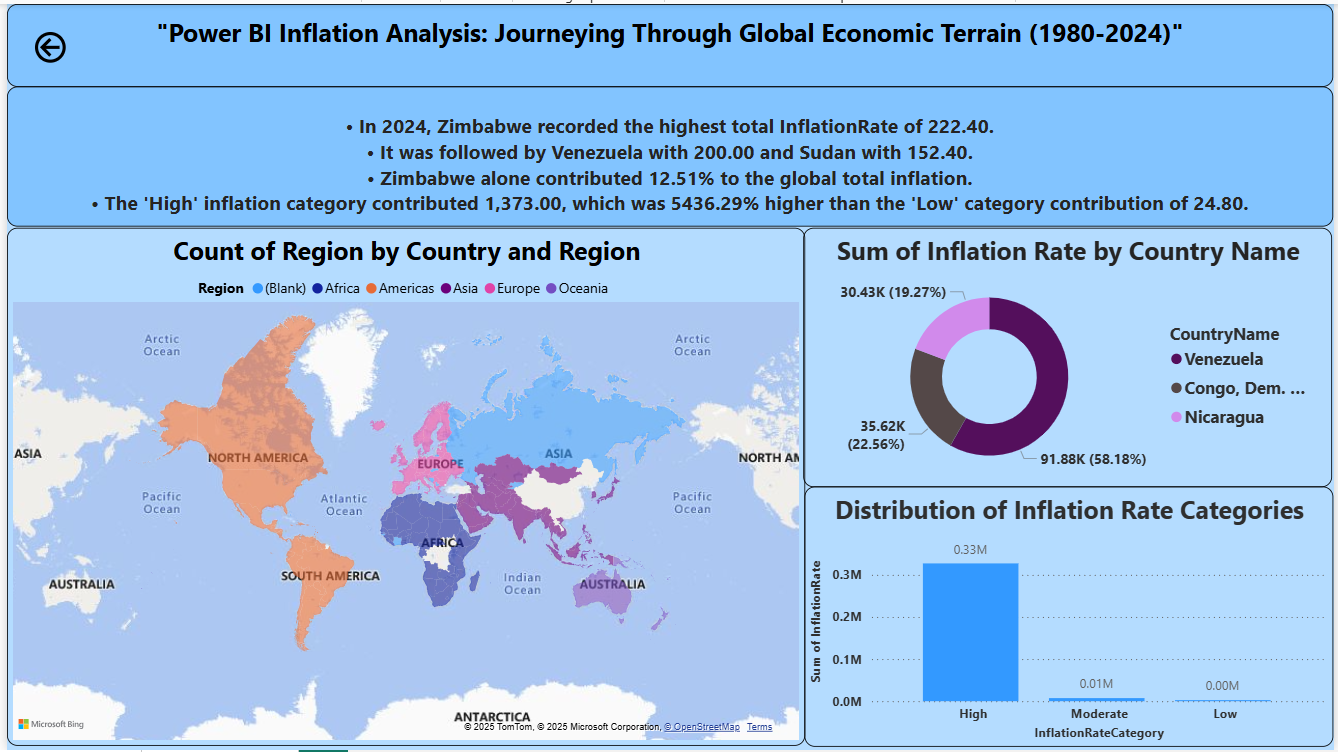

The page's visual inventory and layout, read from the dashboard file:
{"tool":"powerbi","page":{"name":"Page 2 - Report","canvas":[1280,720],"ordinal":1},"visuals":[{"type":"textbox","box":[0,0,1280,80],"z":0},{"type":"actionButton","box":[8,8,66.4,66],"z":1000},{"type":"card","fields":{"Values":["GlobalInflationData.InflationSummary"]},"box":[0,80,1280,135],"z":2000},{"type":"filledMap","title":"Global Region Distribution by Country","fields":{"Category":["GlobalInflationData.CountryName"],"Series":["GlobalInflationData.Region"]},"box":[0,215.4,770,500],"z":3000},{"type":"donutChart","title":"Sum of Inflation Rate by Country Name (Latest Year)","fields":{"Category":["GlobalInflationData.CountryName"],"Y":["Sum(GlobalInflationData.InflationRate)"]},"box":[768,216,510,250],"z":4000},{"type":"clusteredColumnChart","title":"Distribution of Inflation Rate Categories (Latest Year)","fields":{"Category":["GlobalInflationData.InflationRateCategory"],"Y":["Sum(GlobalInflationData.InflationRate)"]},"box":[770,466,510,251],"z":5000}]}

Visuals, with their boxes in screenshot pixels (x1, y1, x2, y2), scaled from the page's 1280x720 canvas onto the 1338x752 screenshot:
textbox: [0, 0, 1337, 84]
actionButton: [8, 8, 78, 77]
card - GlobalInflationData.InflationSummary: [0, 84, 1337, 225]
"Global Region Distribution by Country" filledMap: [0, 225, 805, 747]
"Sum of Inflation Rate by Country Name (Latest Year)" donutChart: [803, 226, 1336, 487]
"Distribution of Inflation Rate Categories (Latest Year)" clusteredColumnChart: [805, 487, 1337, 749]
